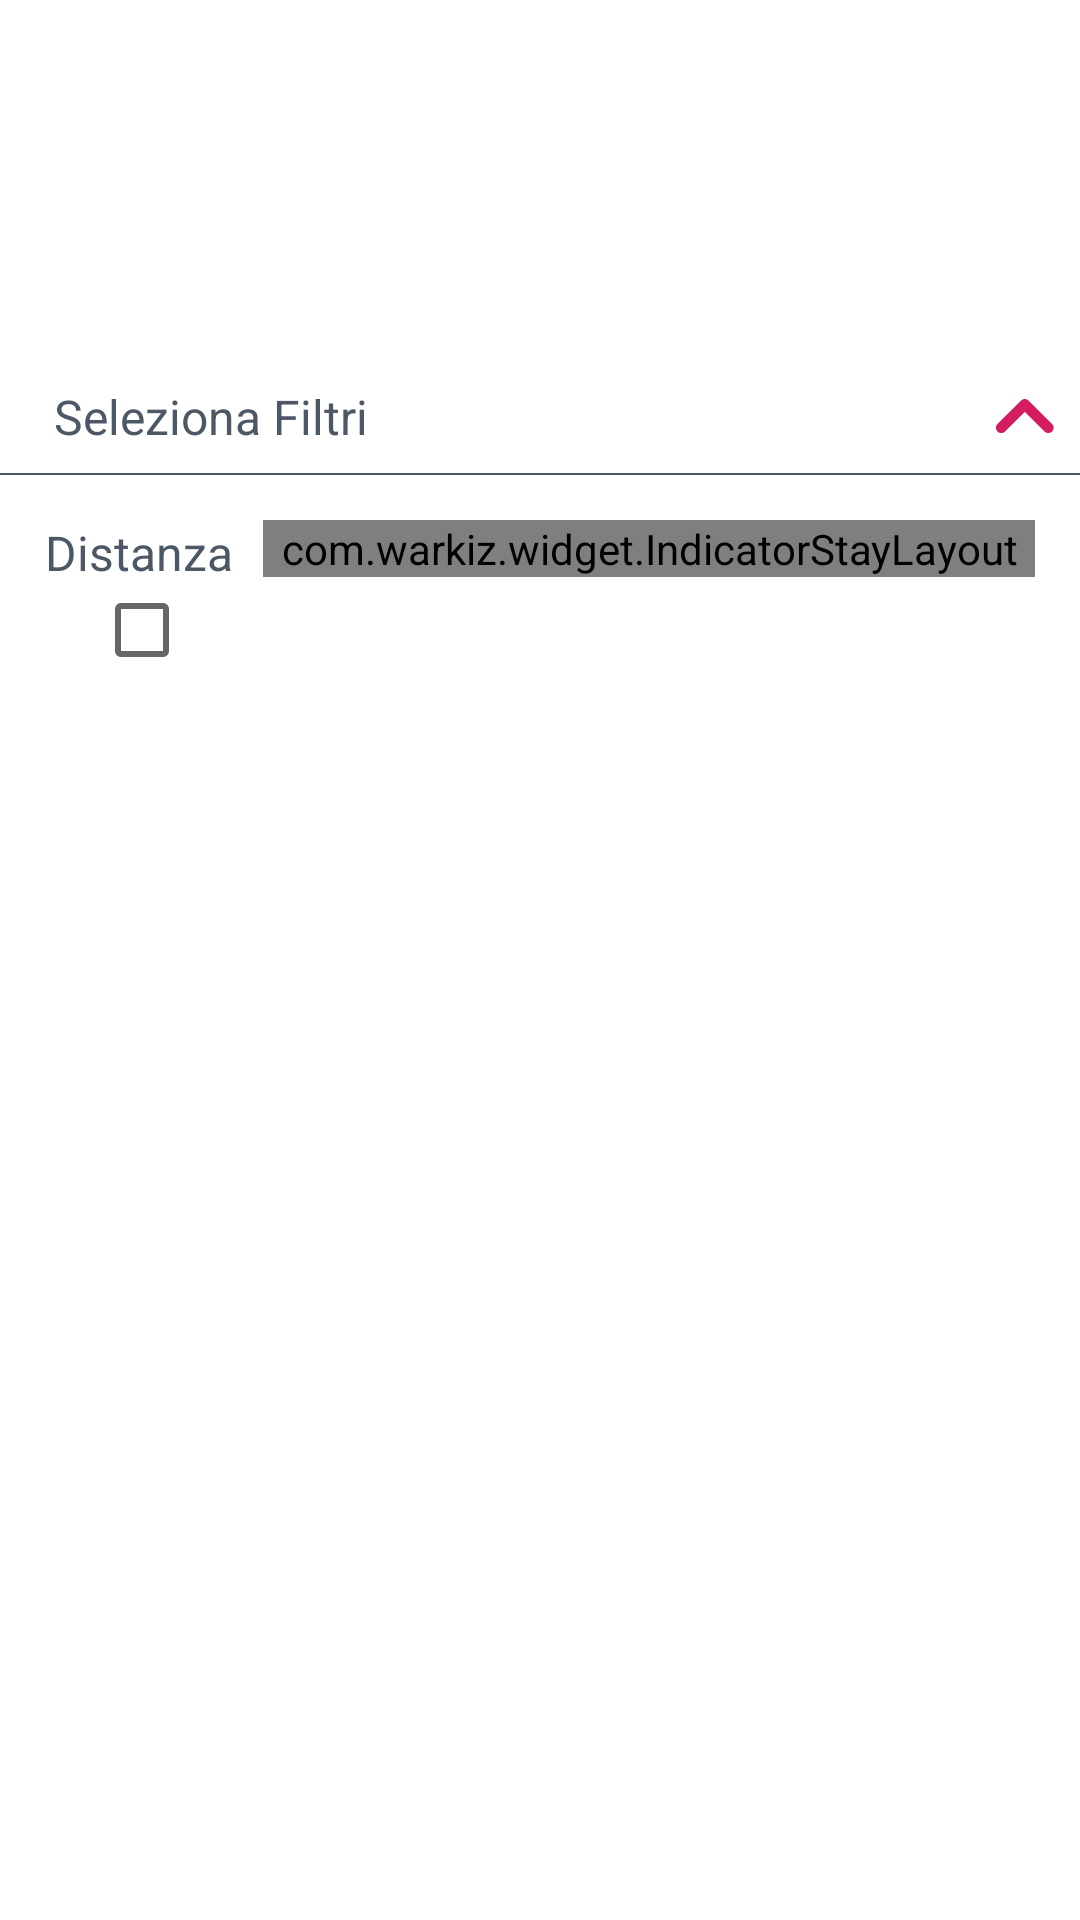

Point at icon controls on the screen. Image size 1080 × 1920, points as (x=x, y=y).
up arrow: (x=1025, y=416)
